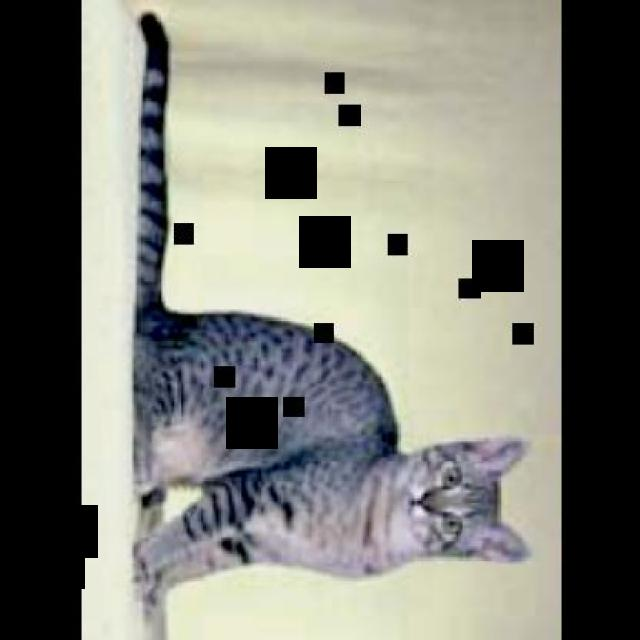unauthorized: (131, 9, 398, 508), (131, 434, 532, 615)
